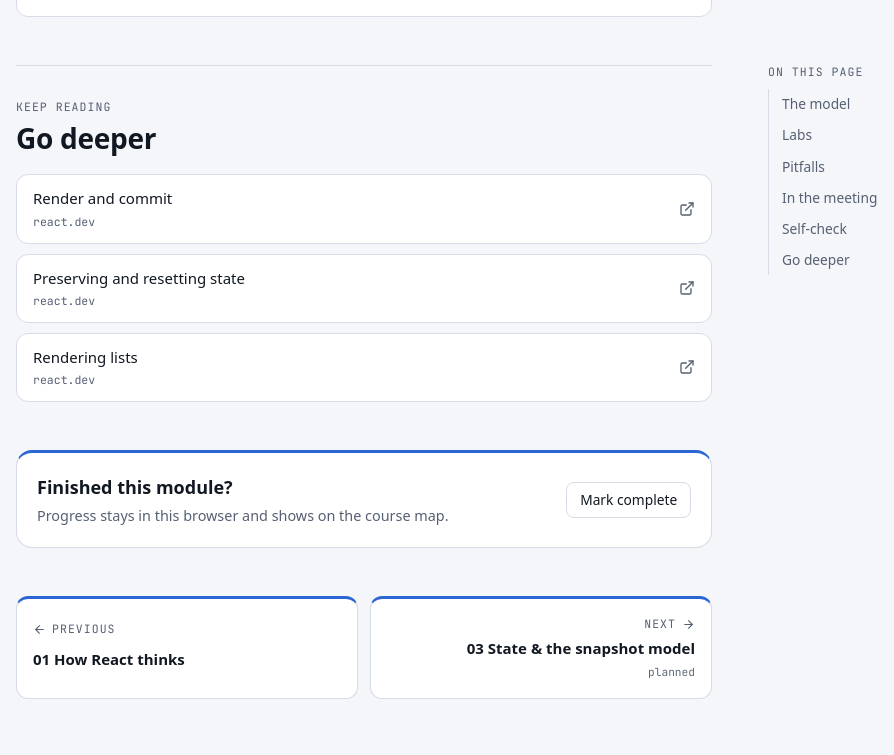
ModulePage completion and neighbours › marks the module complete and back again
The width and height of the screenshot is (894, 755).
(page scrolled)
Click the button "Mark complete" at (629, 500), box [566,482,691,518]
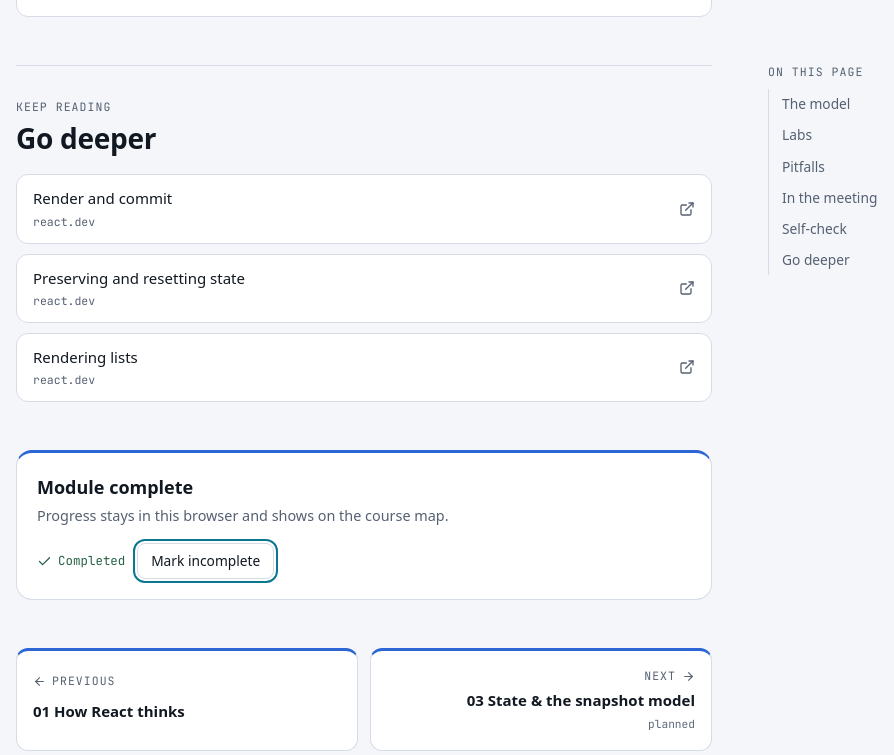
Check: the text "Completed" is shown, box [37,551,125,571]
Click the button "Mark incomplete" at (206, 561), box [137,543,274,579]
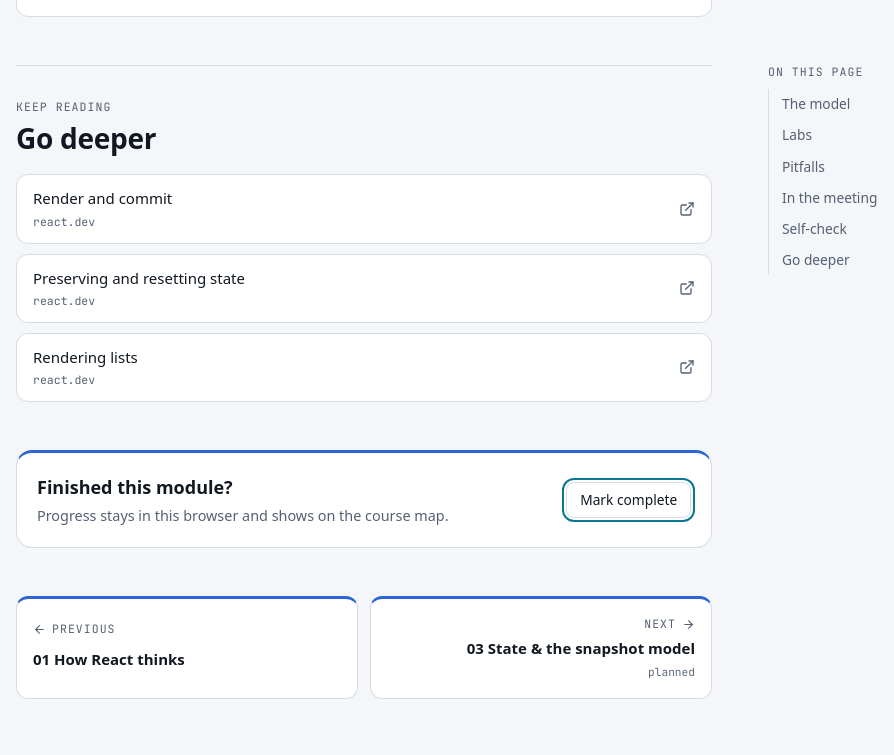
Check: the button "Mark complete" is shown, box [566,482,691,518]
